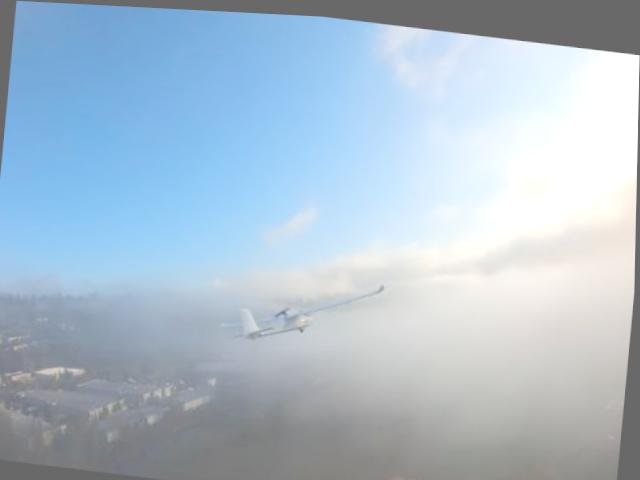uav: (213, 254, 391, 367)
